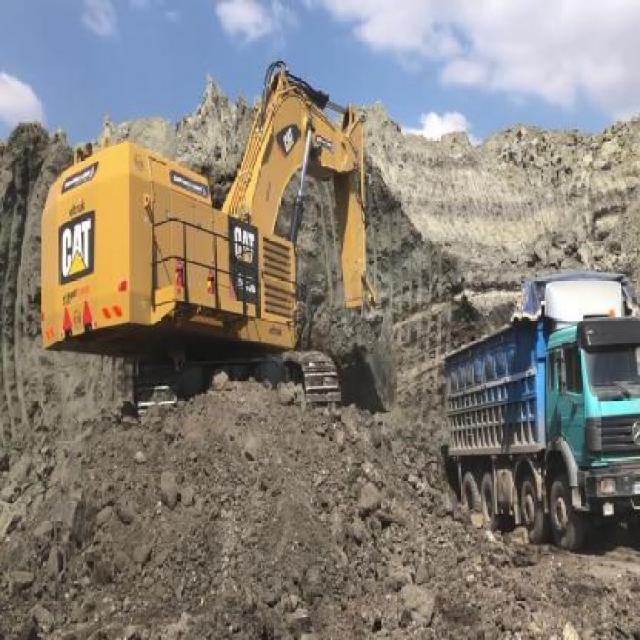Dump Truck: (441, 275, 639, 553)
Excavator: (38, 59, 387, 432)
